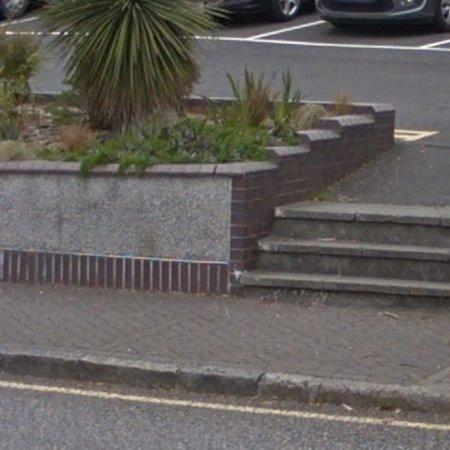stairs: (241, 203, 450, 297)
